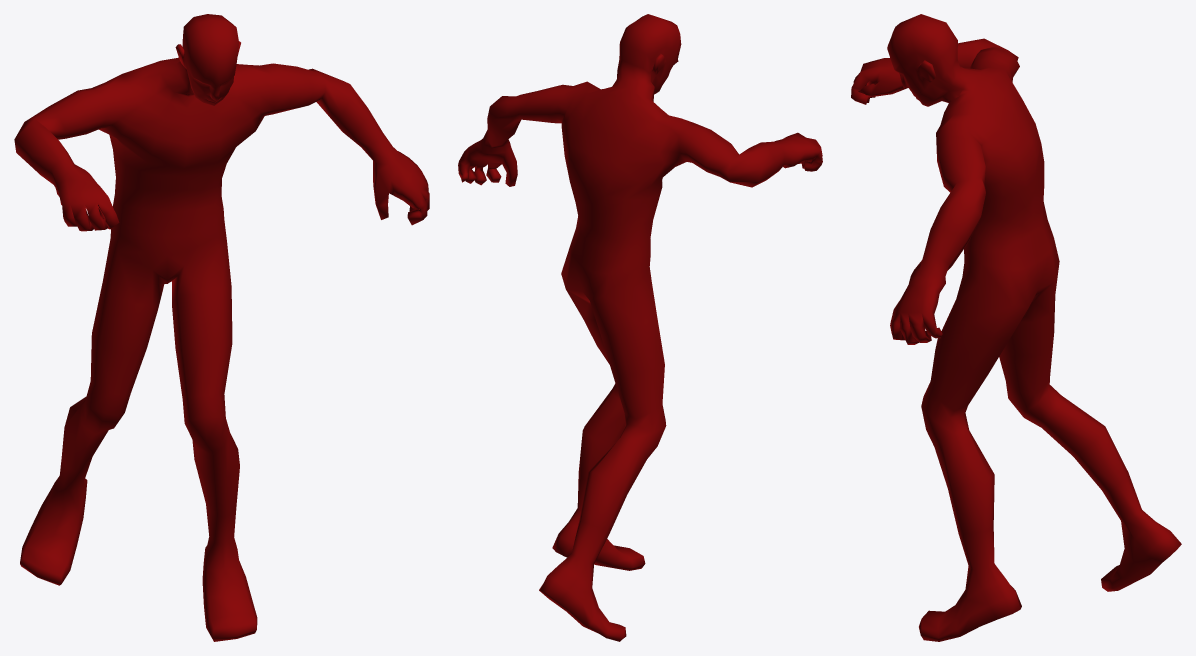
The model's file is attack_6.obj.
3 renders of one model, left to right at view 1: azimuth 30°, elevation 25°; view 2: azimuth 150°, elevation 25°; view 3: azimuth 270°, elevation 25°, orthographic. The views are drawn at different scales.
Parts seen in each view (by area): view 1: Low_Poly_Characte.000_Mesh.001; view 2: Low_Poly_Characte.000_Mesh.001; view 3: Low_Poly_Characte.000_Mesh.001.
Boxes of the visible parts, box(x1,y1,x2,y2) form: Low_Poly_Characte.000_Mesh.001: box(14, 14, 429, 641); Low_Poly_Characte.000_Mesh.001: box(458, 14, 822, 641); Low_Poly_Characte.000_Mesh.001: box(851, 14, 1181, 641).
Size of the model in its own units: 1.95 by 3.01 by 1.5.
